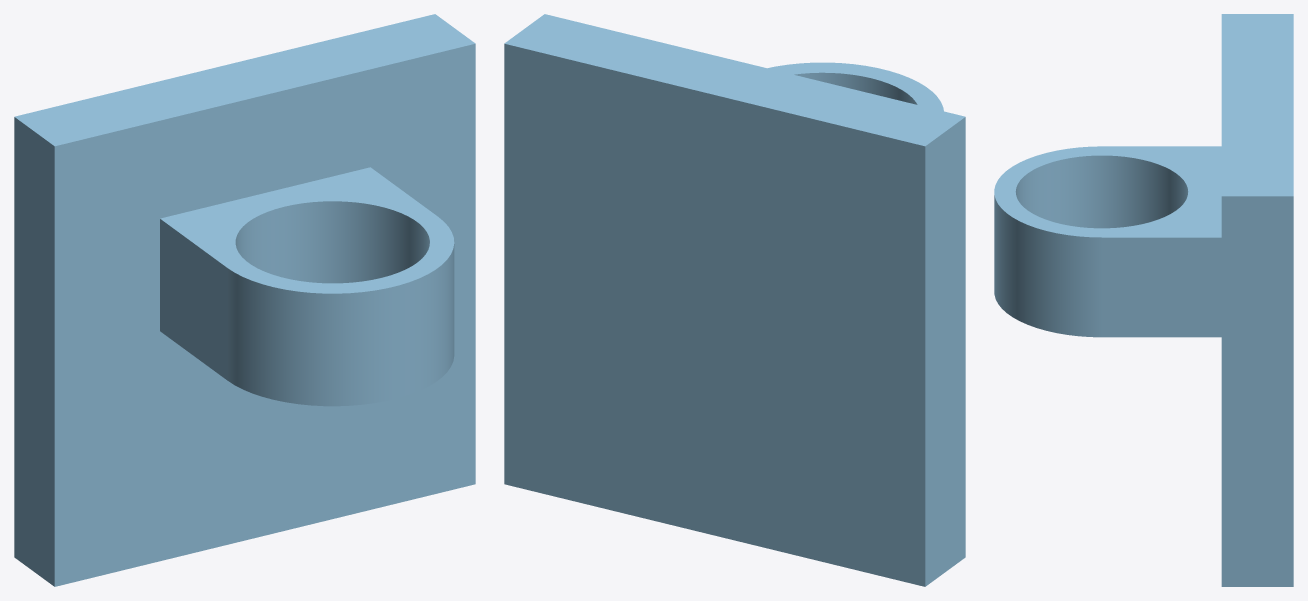
The model's file is Foot.obj.
3 renders of one model, left to right at view 1: azimuth 30°, elevation 25°; view 2: azimuth 150°, elevation 25°; view 3: azimuth 270°, elevation 25°, orthographic. The views are drawn at different scales.
Visible parts, largest first — view 1: mesh157, mesh154, mesh159, mesh158, mesh151, mesh152, mesh156; view 2: mesh160, mesh159, mesh158, mesh152, mesh151; view 3: mesh161, mesh158, mesh155, mesh154, mesh151, mesh152.
Boxes of the visible parts, x1,y1,x2,y2 form: mesh157: [54, 43, 475, 586]; mesh154: [227, 244, 454, 406]; mesh159: [14, 117, 54, 586]; mesh158: [14, 14, 475, 146]; mesh151: [235, 201, 429, 283]; mesh152: [160, 167, 454, 293]; mesh156: [160, 219, 227, 380]; mesh160: [504, 43, 925, 586]; mesh159: [925, 117, 965, 586]; mesh158: [504, 14, 965, 146]; mesh152: [768, 62, 943, 111]; mesh151: [794, 72, 917, 104]; mesh161: [1221, 196, 1293, 586]; mesh158: [1221, 14, 1293, 196]; mesh155: [1102, 237, 1221, 337]; mesh154: [994, 195, 1101, 337]; mesh151: [1015, 155, 1188, 228]; mesh152: [994, 146, 1221, 237].
Bounding box in the file's own units: 0.09 × 0.09 × 0.0625.
